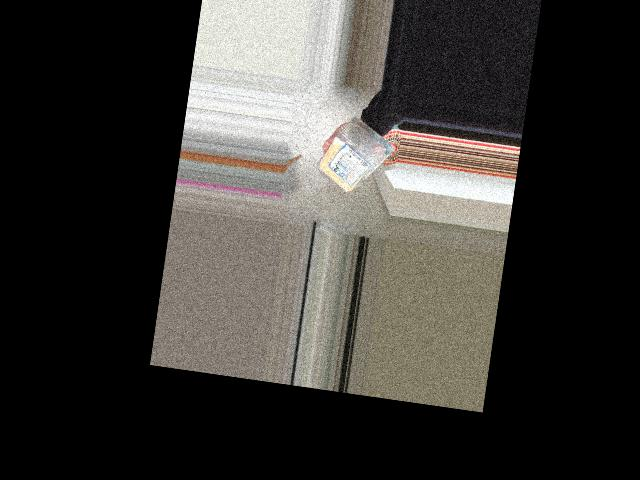cheese: (323, 123, 390, 200)
